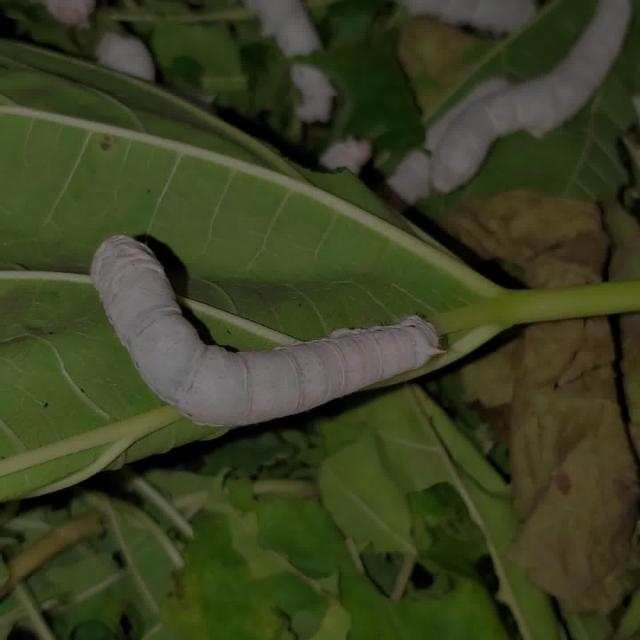Healthy: (46, 164, 471, 446)
